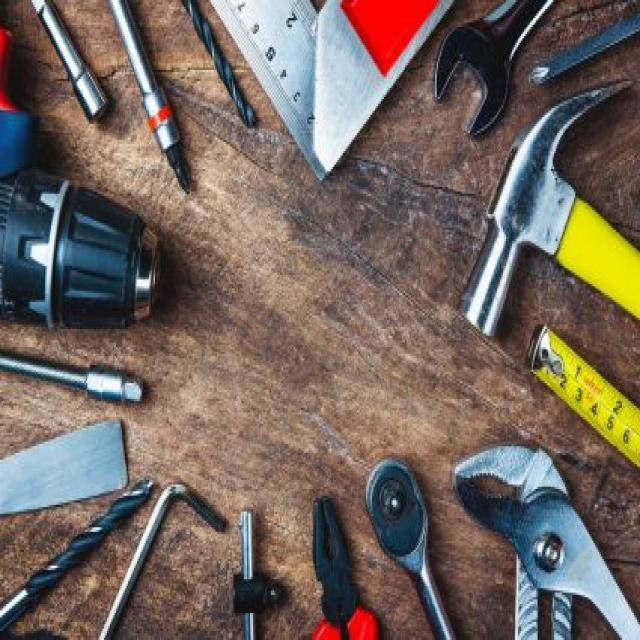hammer: (456, 66, 640, 452)
